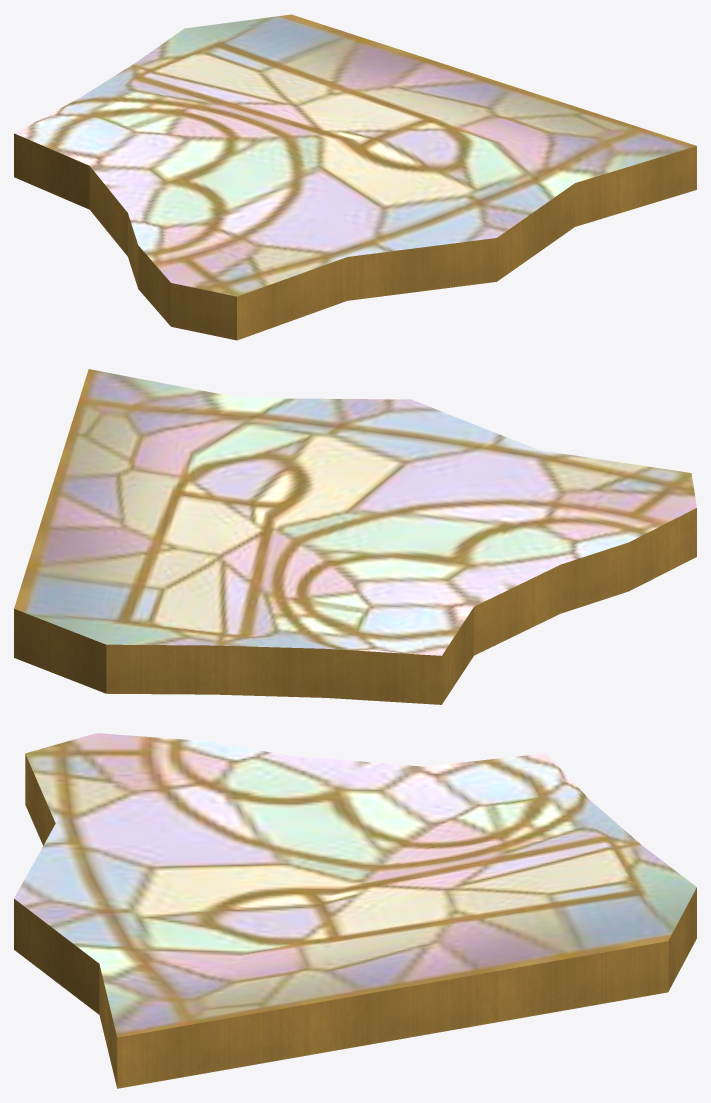
Rendered from lb_chunk_7_2.glb.
3 views of the same model, one above another, from view 1: azimuth 30°, elevation 25°; view 2: azimuth 150°, elevation 25°; view 3: azimuth 270°, elevation 25° (orthographic). The views are drawn at different scales.
Parts seen in each view (by area): view 1: lb_chunk_7_2; view 2: lb_chunk_7_2; view 3: lb_chunk_7_2.
Part boxes in pixels (x1,y1,x2,y2): lb_chunk_7_2: (14, 14, 696, 340); lb_chunk_7_2: (14, 369, 696, 704); lb_chunk_7_2: (14, 733, 696, 1088).
Size of the model in its own units: 4.59 by 0.36 by 4.35.
2 materials, 2 textured.
